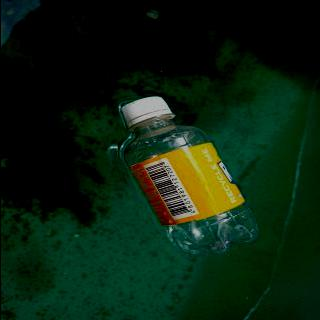bottle: (115, 95, 263, 258)
